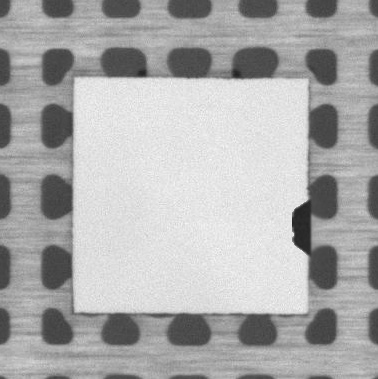DIE_BROKEN: (288, 200, 313, 258)
